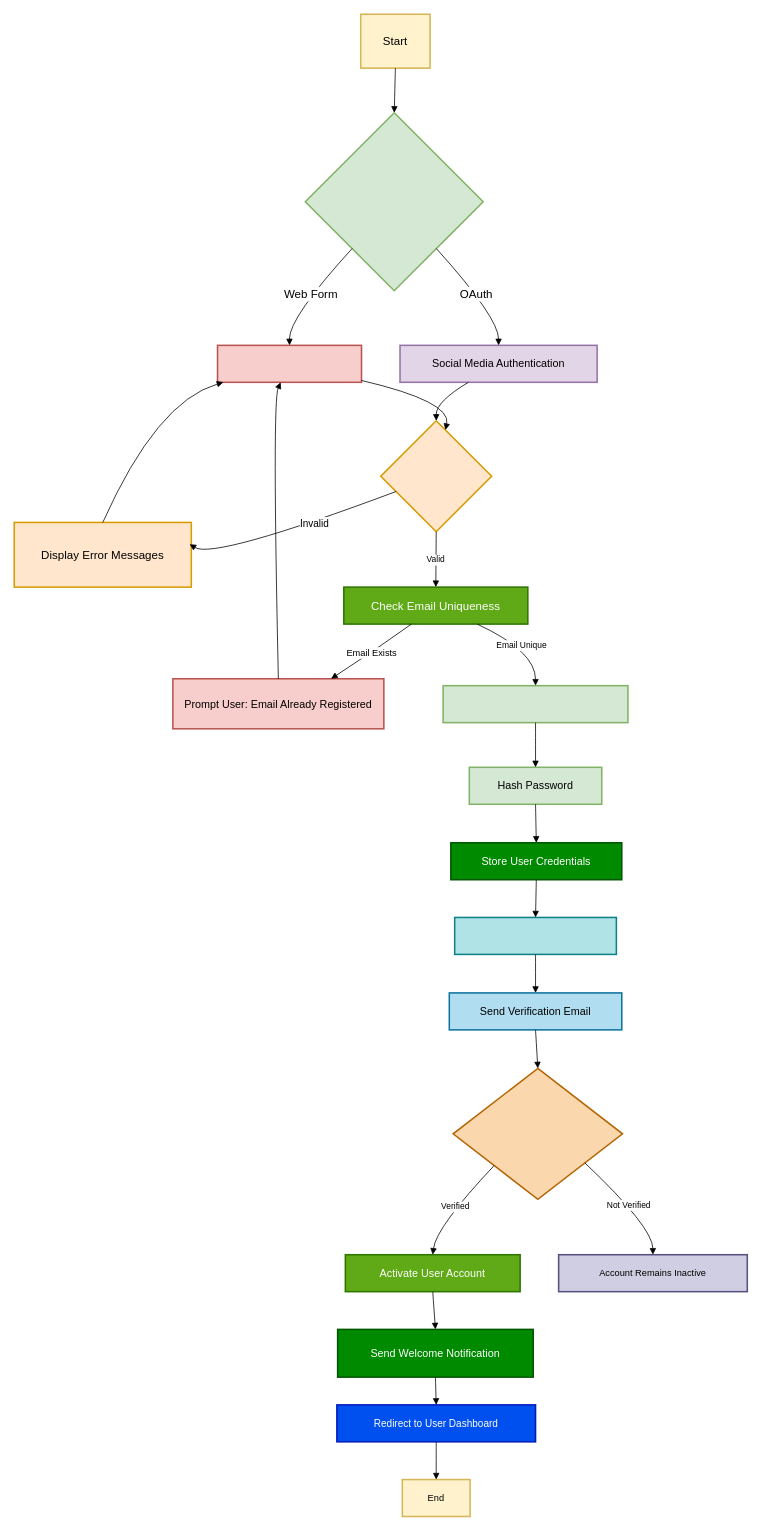
Some shapes in this 761 by 1530 pixel diagram are drawn without their labels. The shapes that lost their labels are listed below. From the top down, each one's centre as x and y in pixels, then its label:
(394,201): User Initiates Registration
(289,363): Input User Details
(436,476): Validate Input
(535,704): Generate Unique User ID
(535,935): Generate JWT Token
(537,1133): Email Verification
